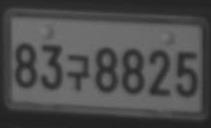2: (149, 49, 170, 95)
3: (40, 44, 62, 90)
5: (175, 50, 198, 97)
8: (121, 47, 146, 94), (94, 46, 118, 93), (14, 42, 37, 89)
구: (65, 54, 90, 91)
